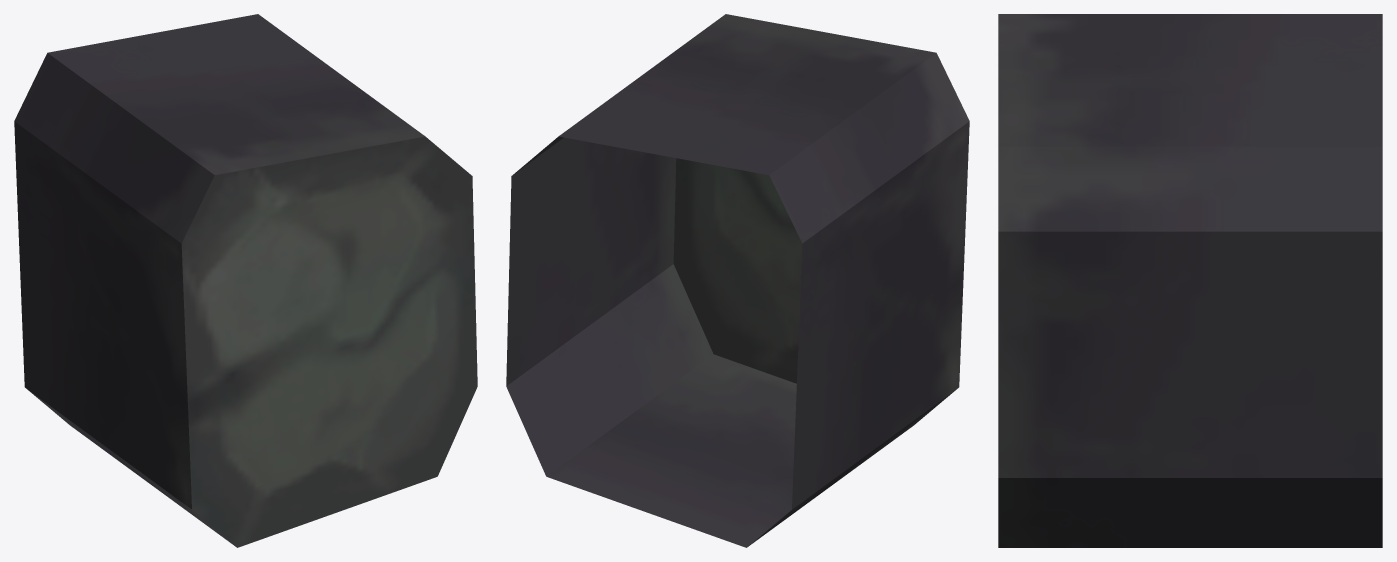
Rendered from yw_shanlin_doorstones_26.FBX.
3 views of the same model, side by side, from view 1: azimuth 30°, elevation 25°; view 2: azimuth 150°, elevation 25°; view 3: azimuth 270°, elevation 25° (orthographic). The views are drawn at different scales.
Parts seen in each view (by area): view 1: yw_shanlin_doorstones_26; view 2: yw_shanlin_doorstones_26; view 3: yw_shanlin_doorstones_26.
Boxes of the visible parts, x1=… form: yw_shanlin_doorstones_26: x1=14, y1=14, x2=477, y2=547; yw_shanlin_doorstones_26: x1=506, y1=14, x2=969, y2=547; yw_shanlin_doorstones_26: x1=998, y1=14, x2=1382, y2=547.
Size of the model in its own units: 21.84 by 26.66 by 21.38.
